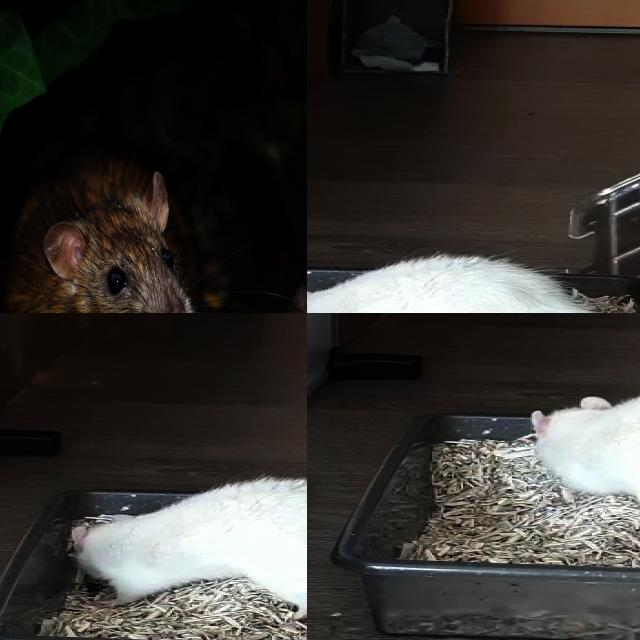rat: (68, 476, 307, 619), (4, 165, 195, 313), (528, 383, 640, 555), (307, 255, 601, 313)
